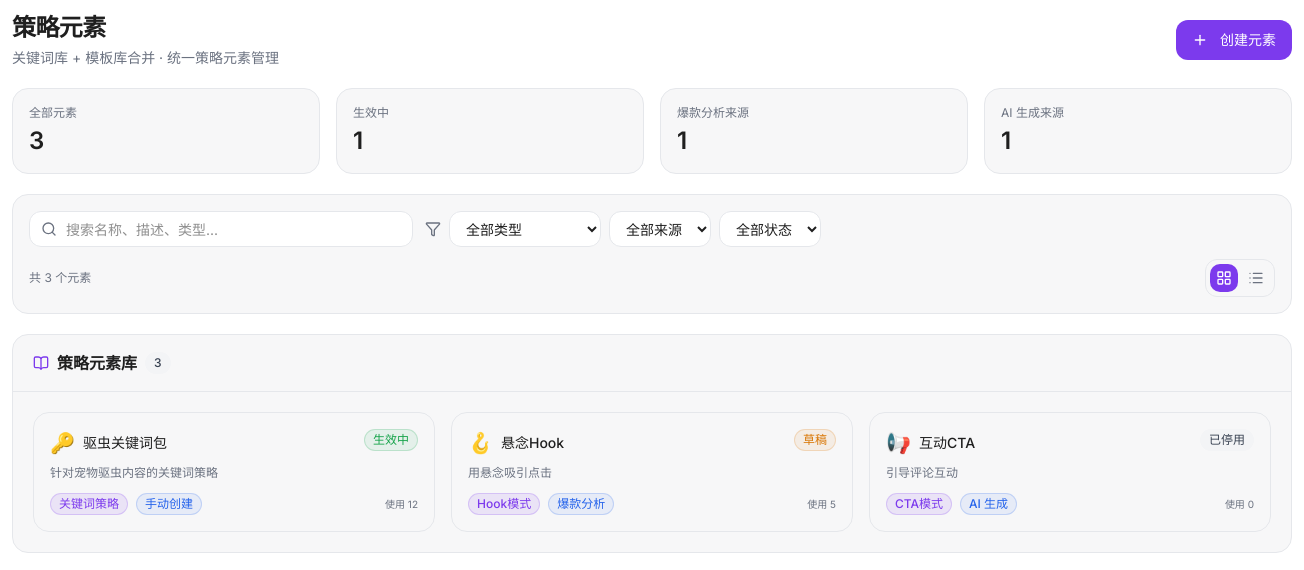
Test case: StrategyElementsPage › filters by element type
Select "🪝 Hook模式" in the 1st dropdown showing "全部类型": coordinates (525, 229) left=449, top=211, right=601, bottom=247
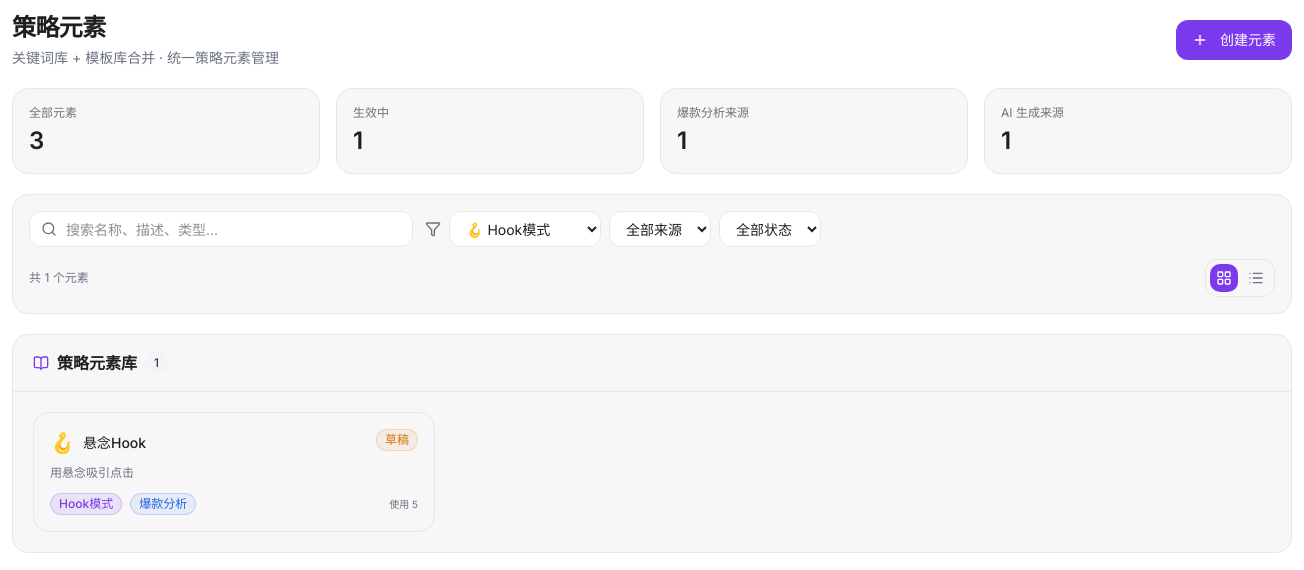
Check: the heading "悬念Hook" is shown, box left=83, top=433, right=146, bottom=453
Check: the button "驱虫关键词包" is gone
Check: the button "互动CTA" is gone
